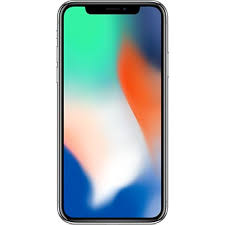iphone: (52, 1, 169, 222)
iphone10: (53, 1, 170, 223)
